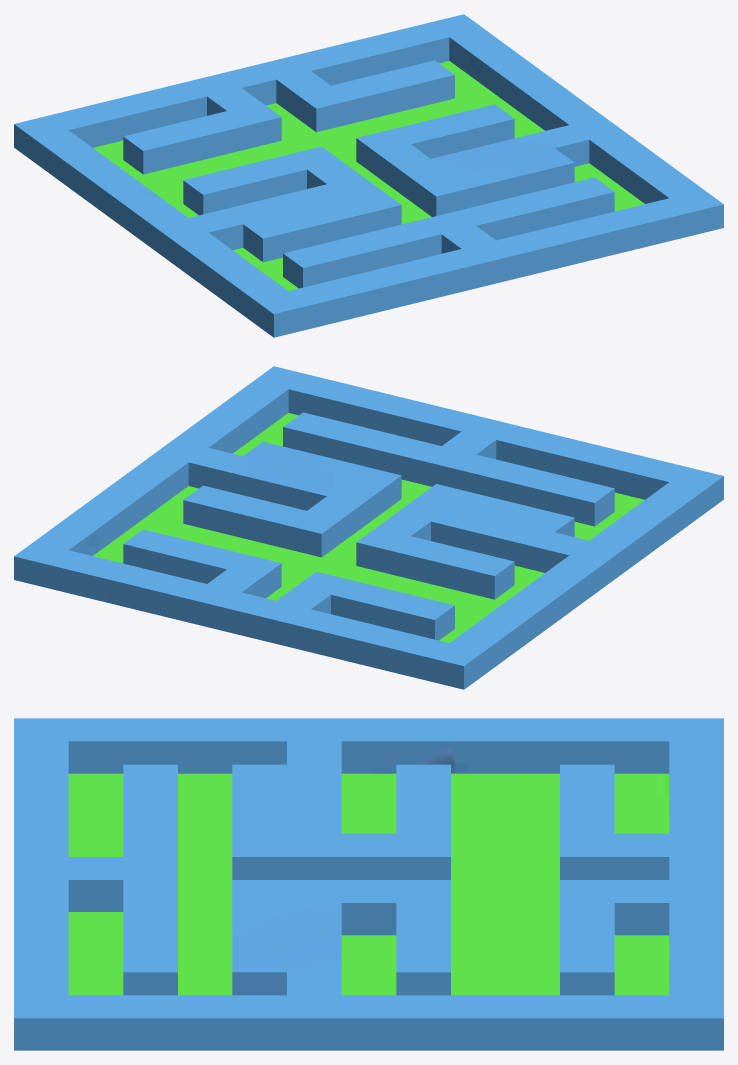
The model's file is level1.obj.
The picture shows the model from 3 angles, top to bottom: view 1: azimuth 30°, elevation 25°; view 2: azimuth 150°, elevation 25°; view 3: azimuth 270°, elevation 25°; orthographic projection. The views are drawn at different scales.
Parts seen in each view (by area): view 1: Plane; view 2: Plane; view 3: Plane.
Boxes of the visible parts, x1,y1,x2,y2 form: Plane: (14,14,723,337); Plane: (14,366,723,689); Plane: (14,718,723,1050).
Bounding box in the file's own units: 20 × 1 × 20.
1 material, 1 textured.
